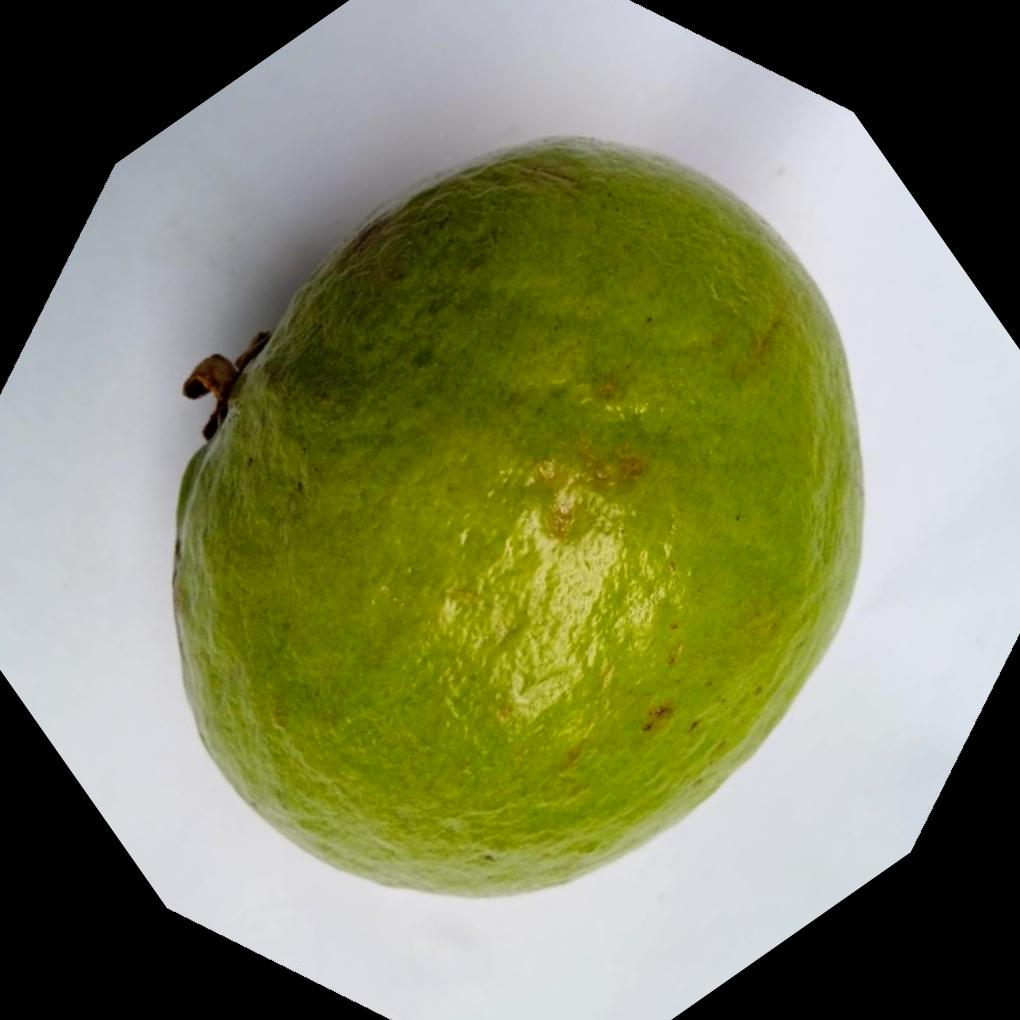FreshGuava: (165, 134, 863, 903)
